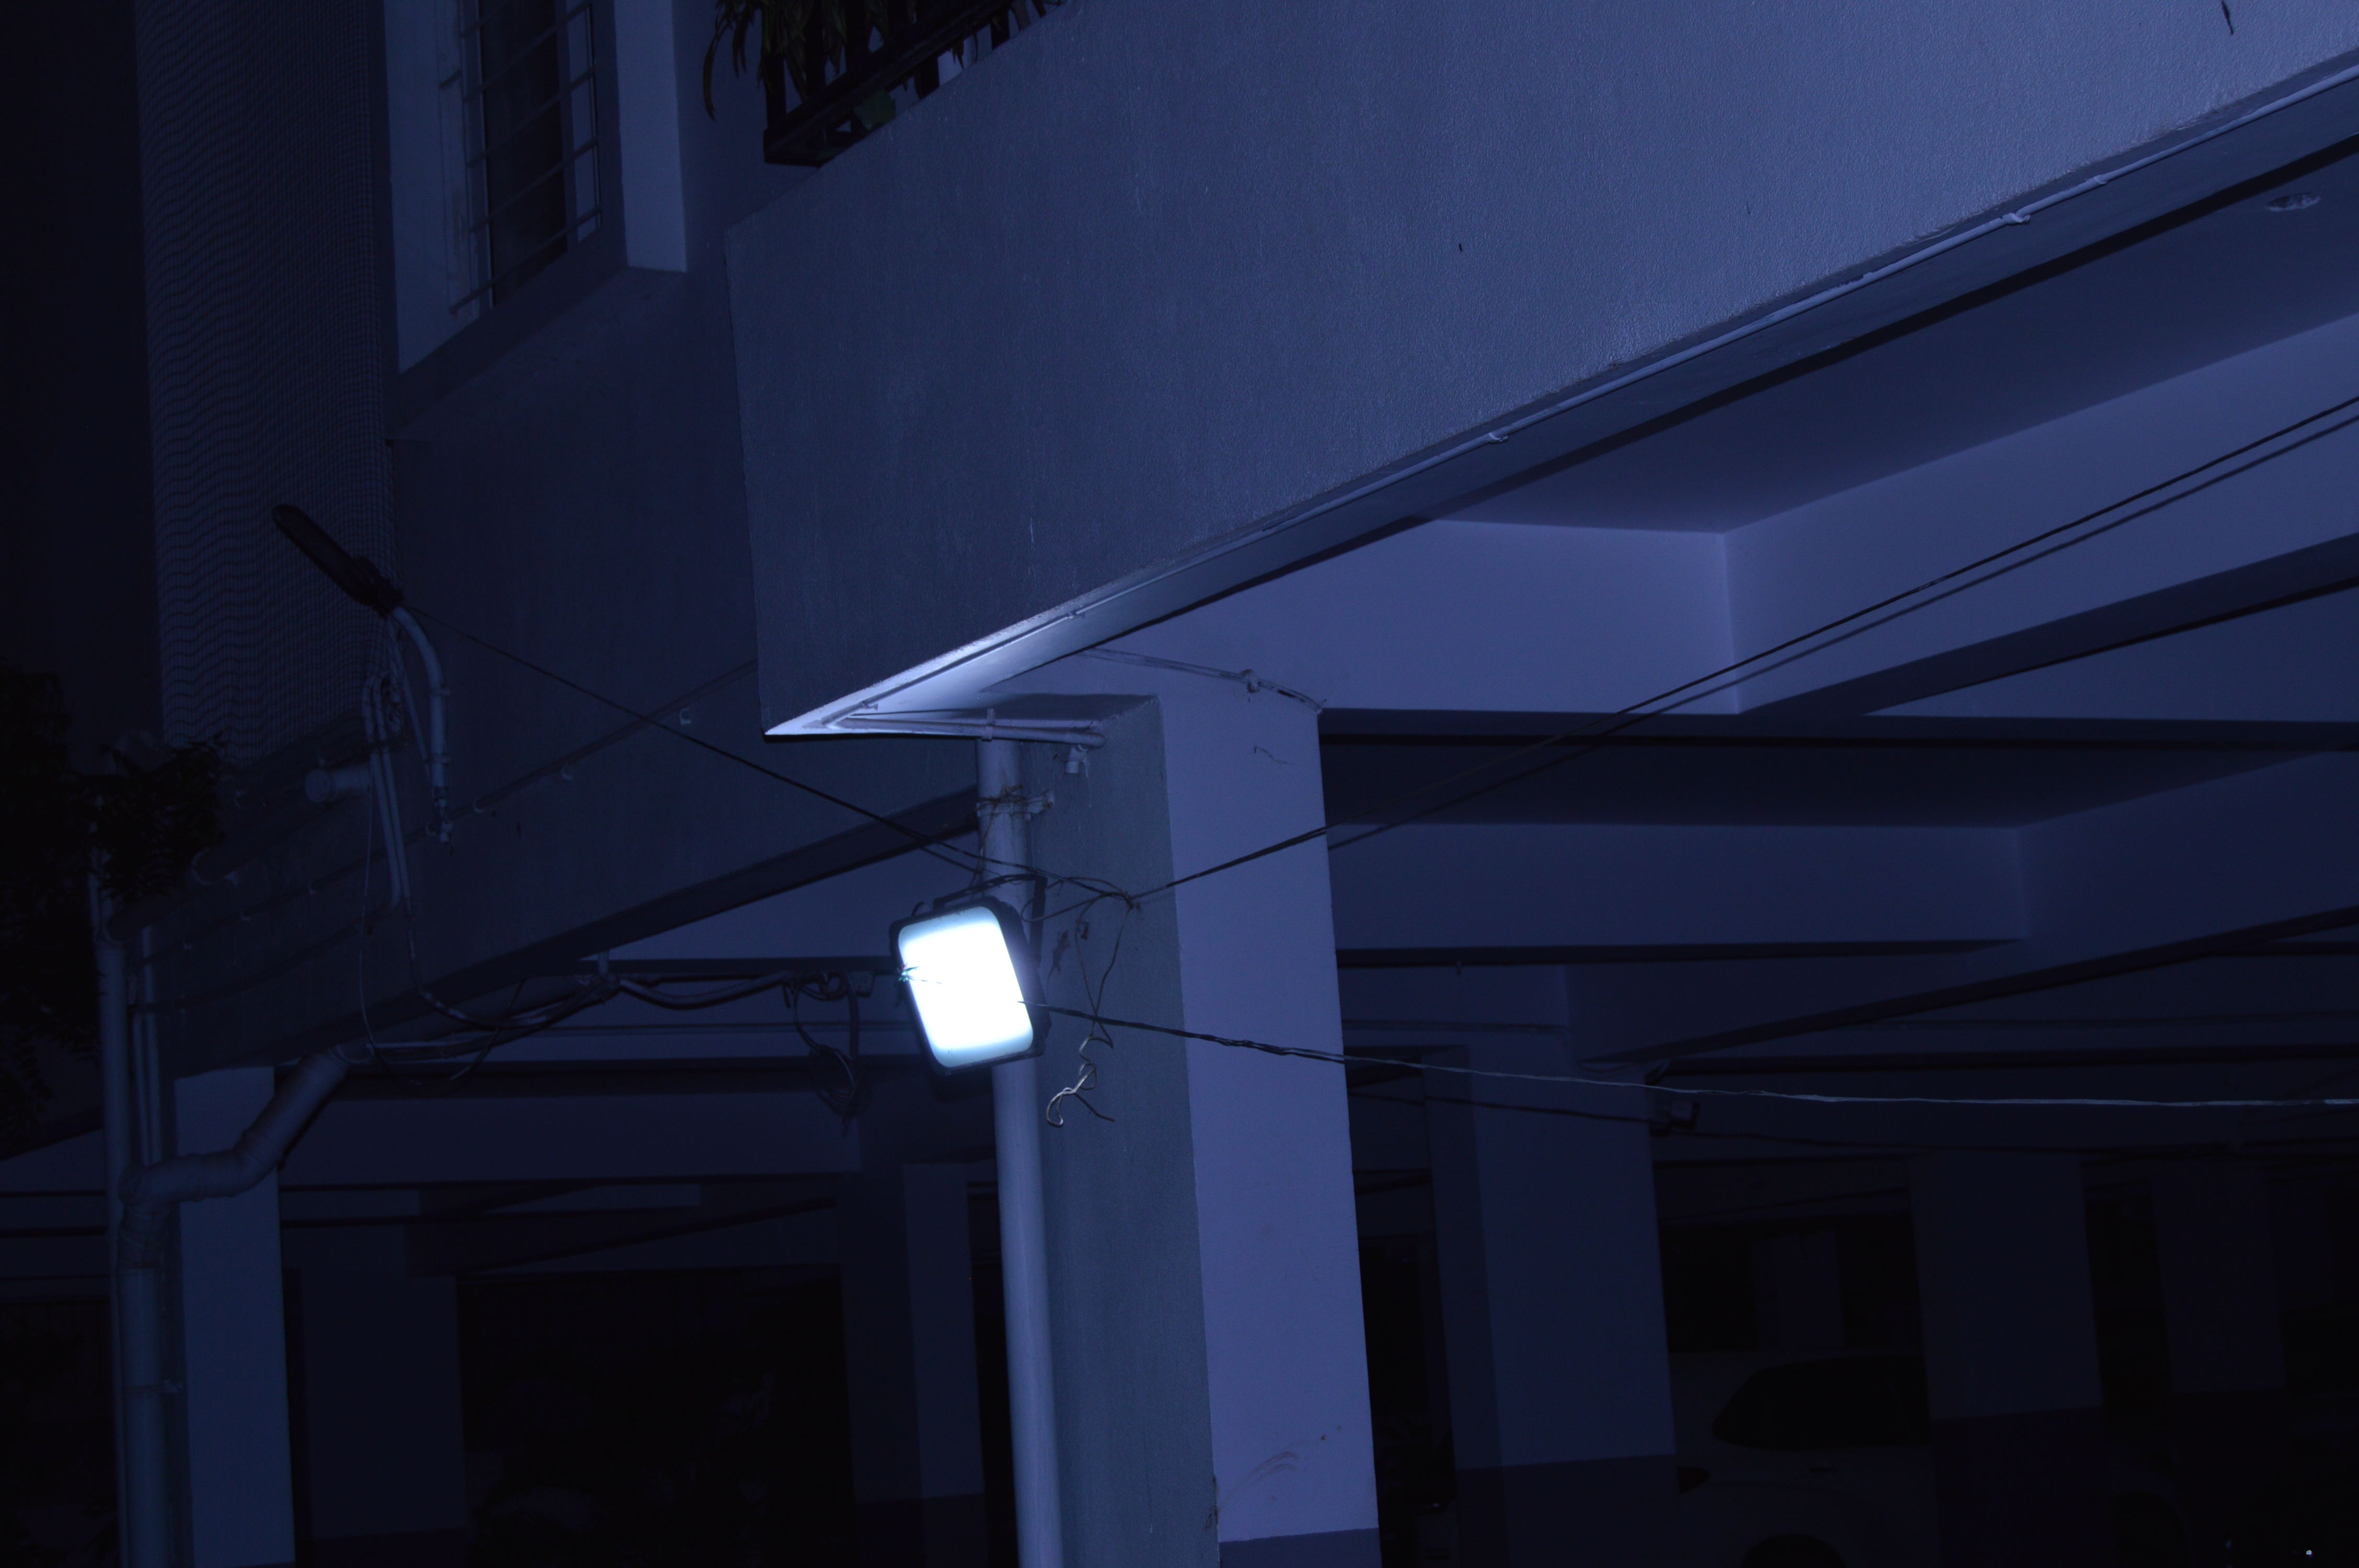Glare: (892, 929, 1032, 1038)
